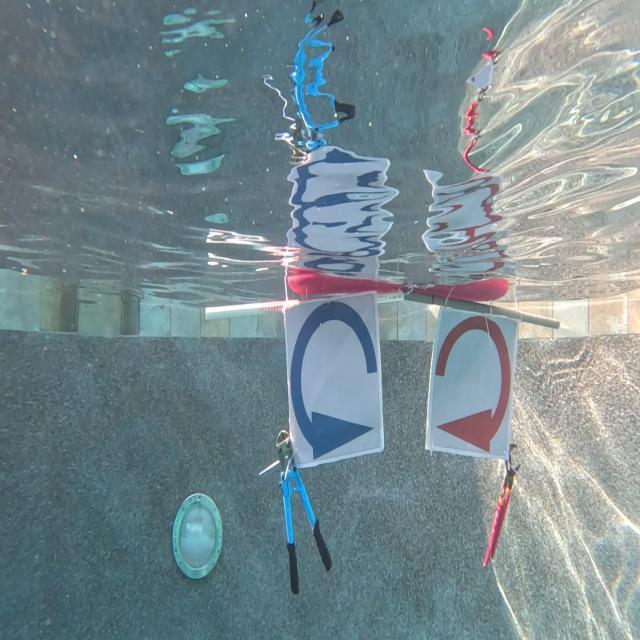blue_side: (291, 308, 379, 459)
red_side: (432, 308, 510, 452)
